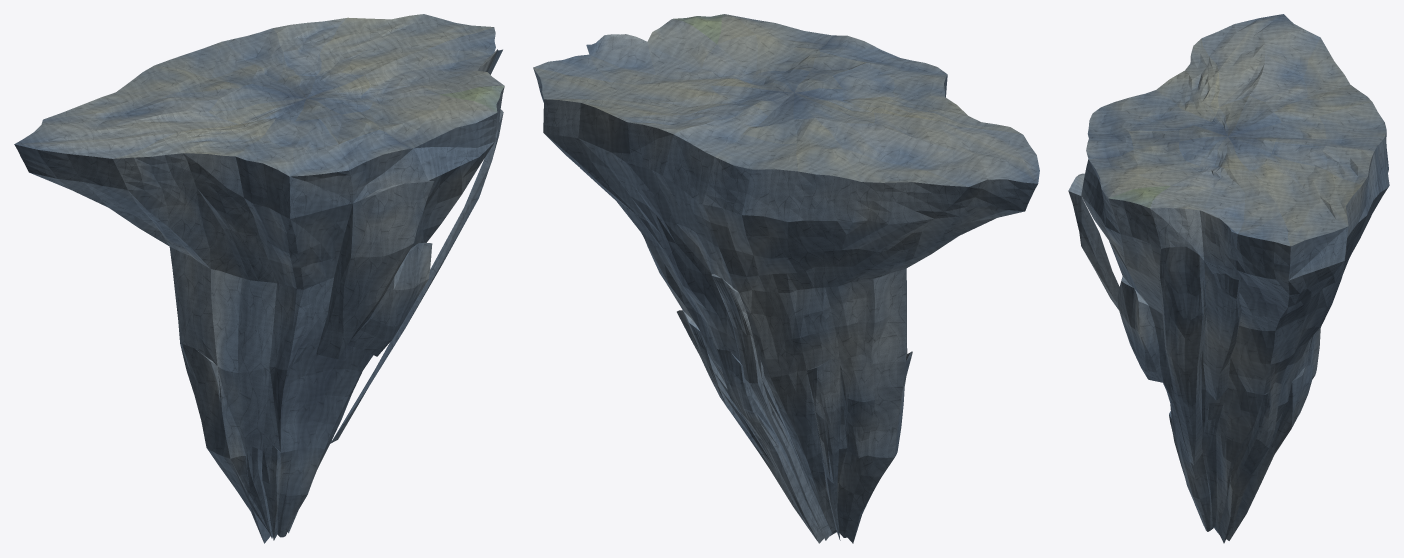
3 views of the same model, side by side, from view 1: azimuth 30°, elevation 25°; view 2: azimuth 150°, elevation 25°; view 3: azimuth 270°, elevation 25° (orthographic). The views are drawn at different scales.
Parts seen in each view (by area): view 1: F16_stone; view 2: F16_stone; view 3: F16_stone.
Part boxes in pixels (x1,y1,x2,y2): F16_stone: (14, 14, 504, 543); F16_stone: (533, 14, 1039, 543); F16_stone: (1068, 14, 1389, 543).
Bounding box in the file's own units: 8.25 × 7.1 × 4.89.
1 material, 1 textured.
